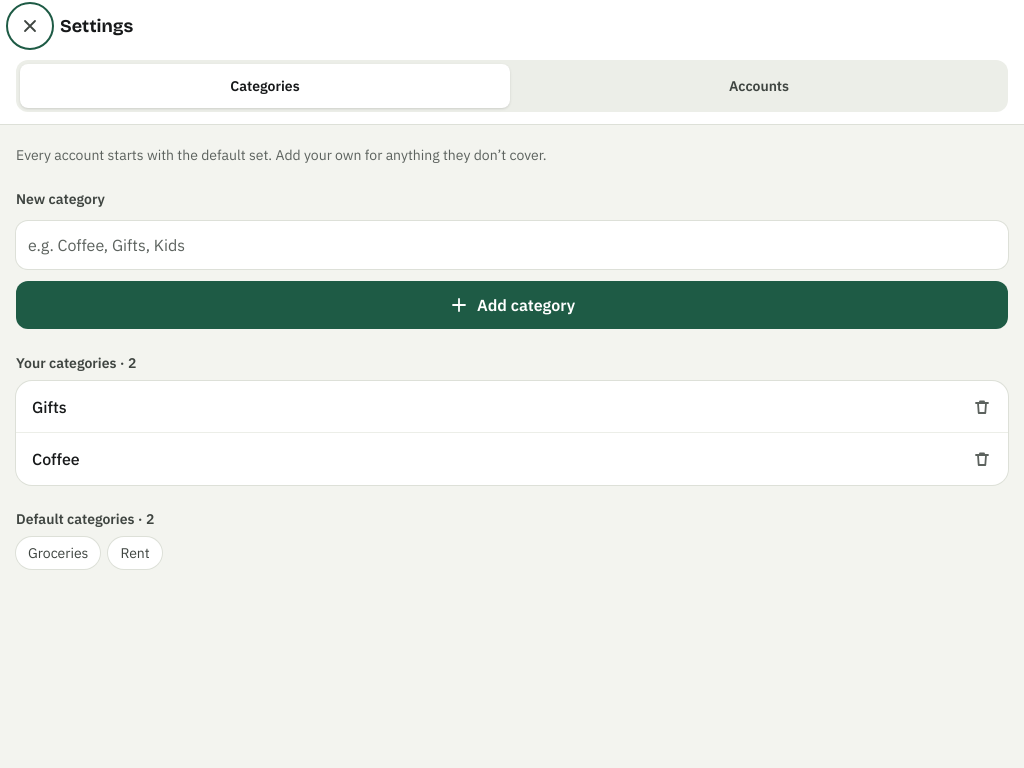
Test case: PhoneSettings — accounts › refuses to remove an account in use, or the last one
Click the button "Accounts". click: (759, 86)
box: top-left (514, 64), bottom-right (1004, 108)
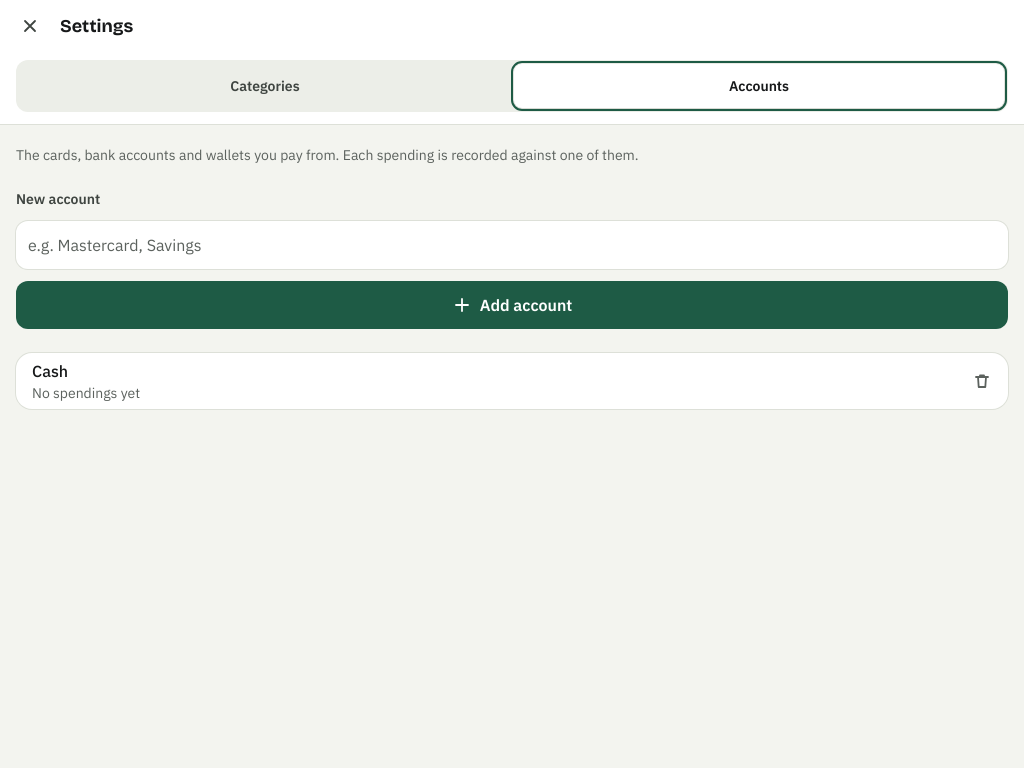
Click the button named "Remove Cash". click: (982, 381)
box: top-left (960, 359), bottom-right (1004, 403)
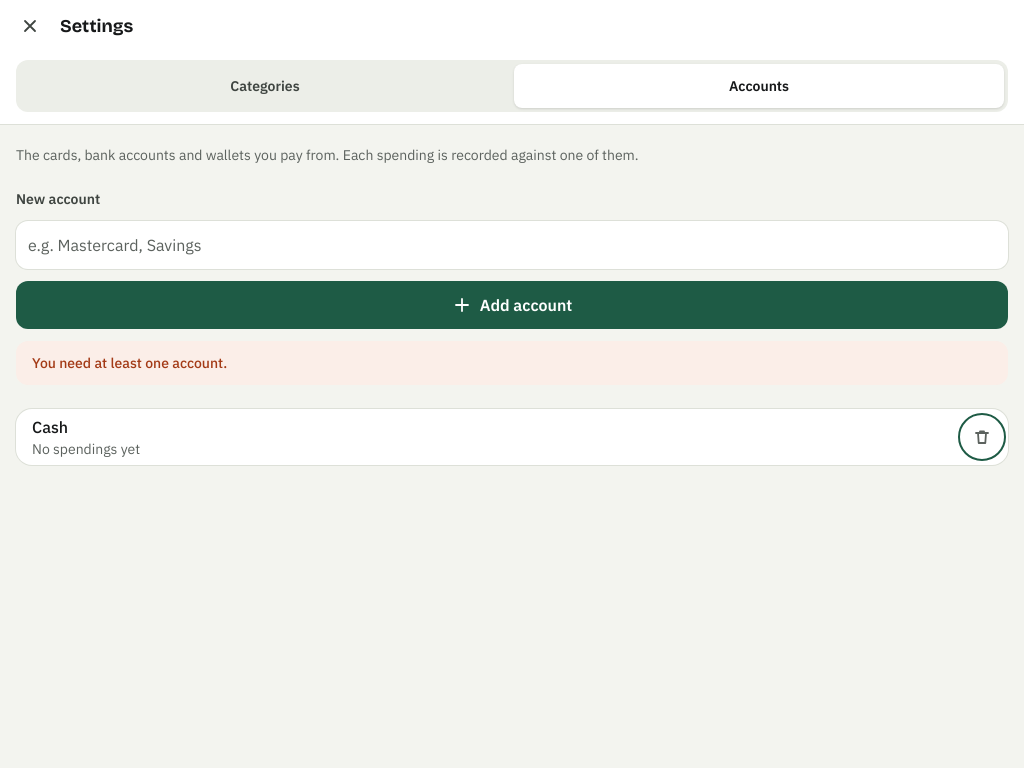
Now the message reads "You need at least one account.", box top-left (32, 354), bottom-right (227, 372)
